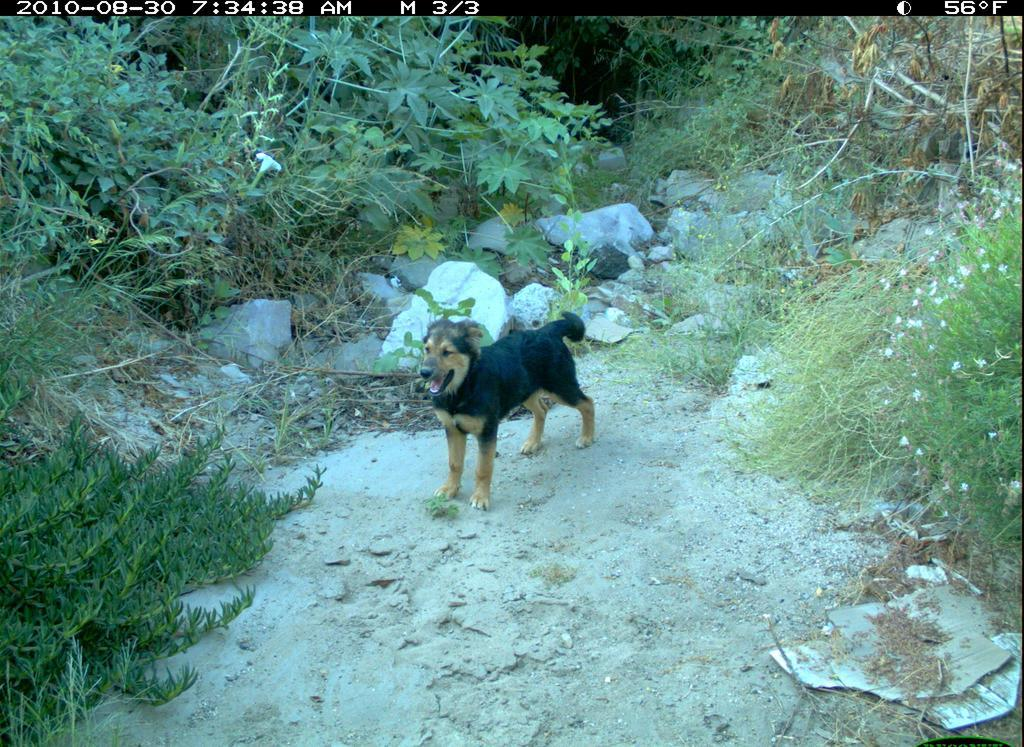dog: (382, 285, 648, 506)
